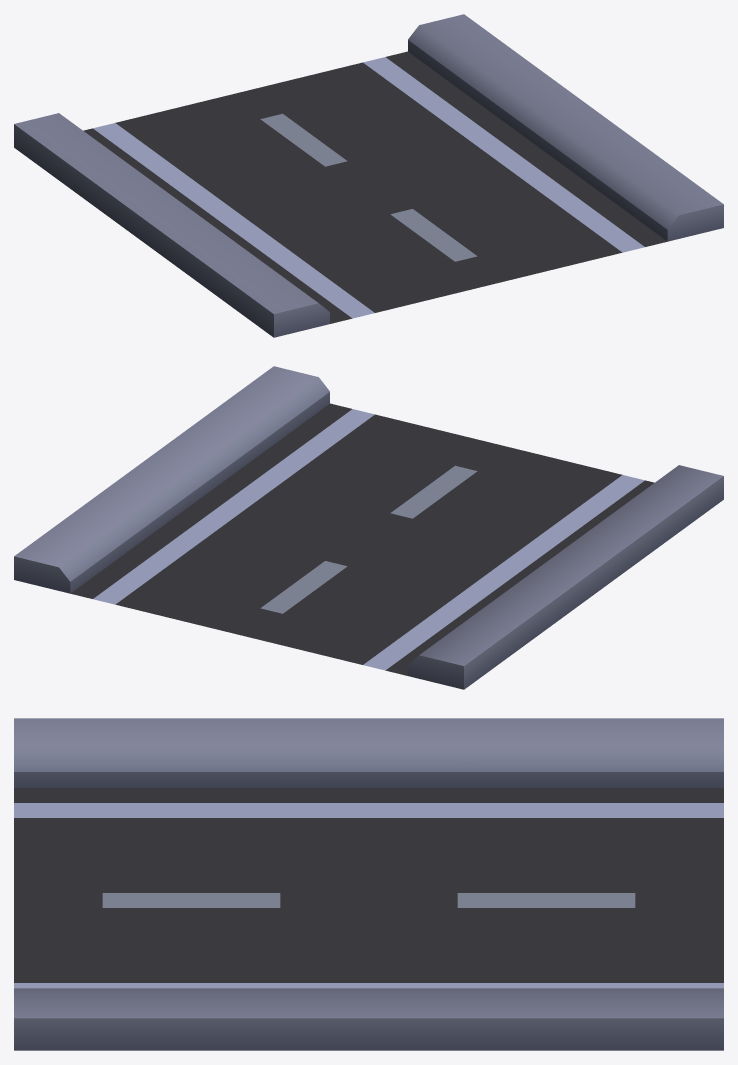
Rendered from road_straight.glb.
3 renders of one model, top to bottom at view 1: azimuth 30°, elevation 25°; view 2: azimuth 150°, elevation 25°; view 3: azimuth 270°, elevation 25°, orthographic. The views are drawn at different scales.
Parts seen in each view (by area): view 1: road-straight; view 2: road-straight; view 3: road-straight.
Part boxes in pixels (x1,y1,x2,y2): road-straight: (14,14,723,337); road-straight: (14,366,723,689); road-straight: (14,718,723,1050).
Bounding box in the file's own units: 1 × 0.0501 × 1.
1 material, 1 textured.
